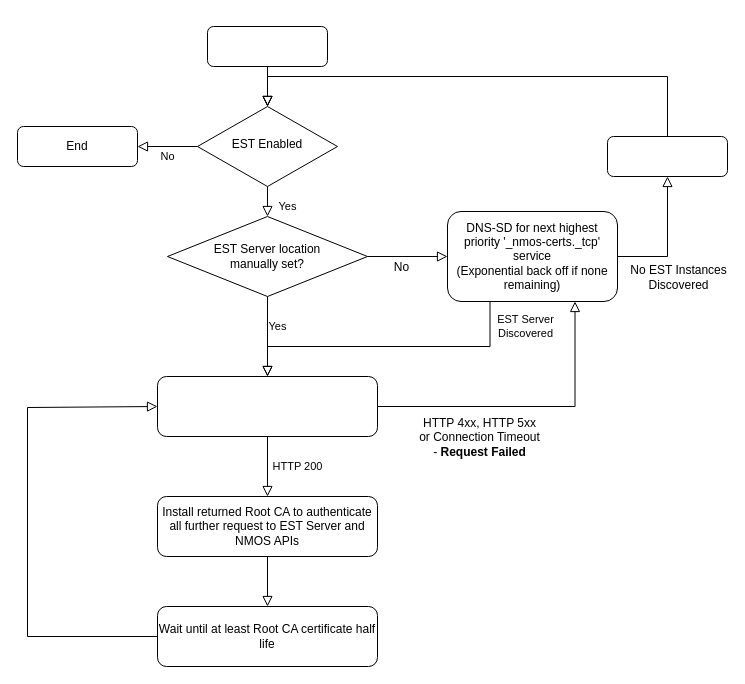
The diagram is 745 pixels wide and 684 high, and some of its shapes have lost their labels. Here are the shapes that lost their labels. From the top down, the box of each, then its label:
(206, 26, 328, 66): Start
(606, 136, 728, 176): Wait Back Off Period
(156, 376, 378, 436): Get /cacerts (Explicitly trust EST Server)
